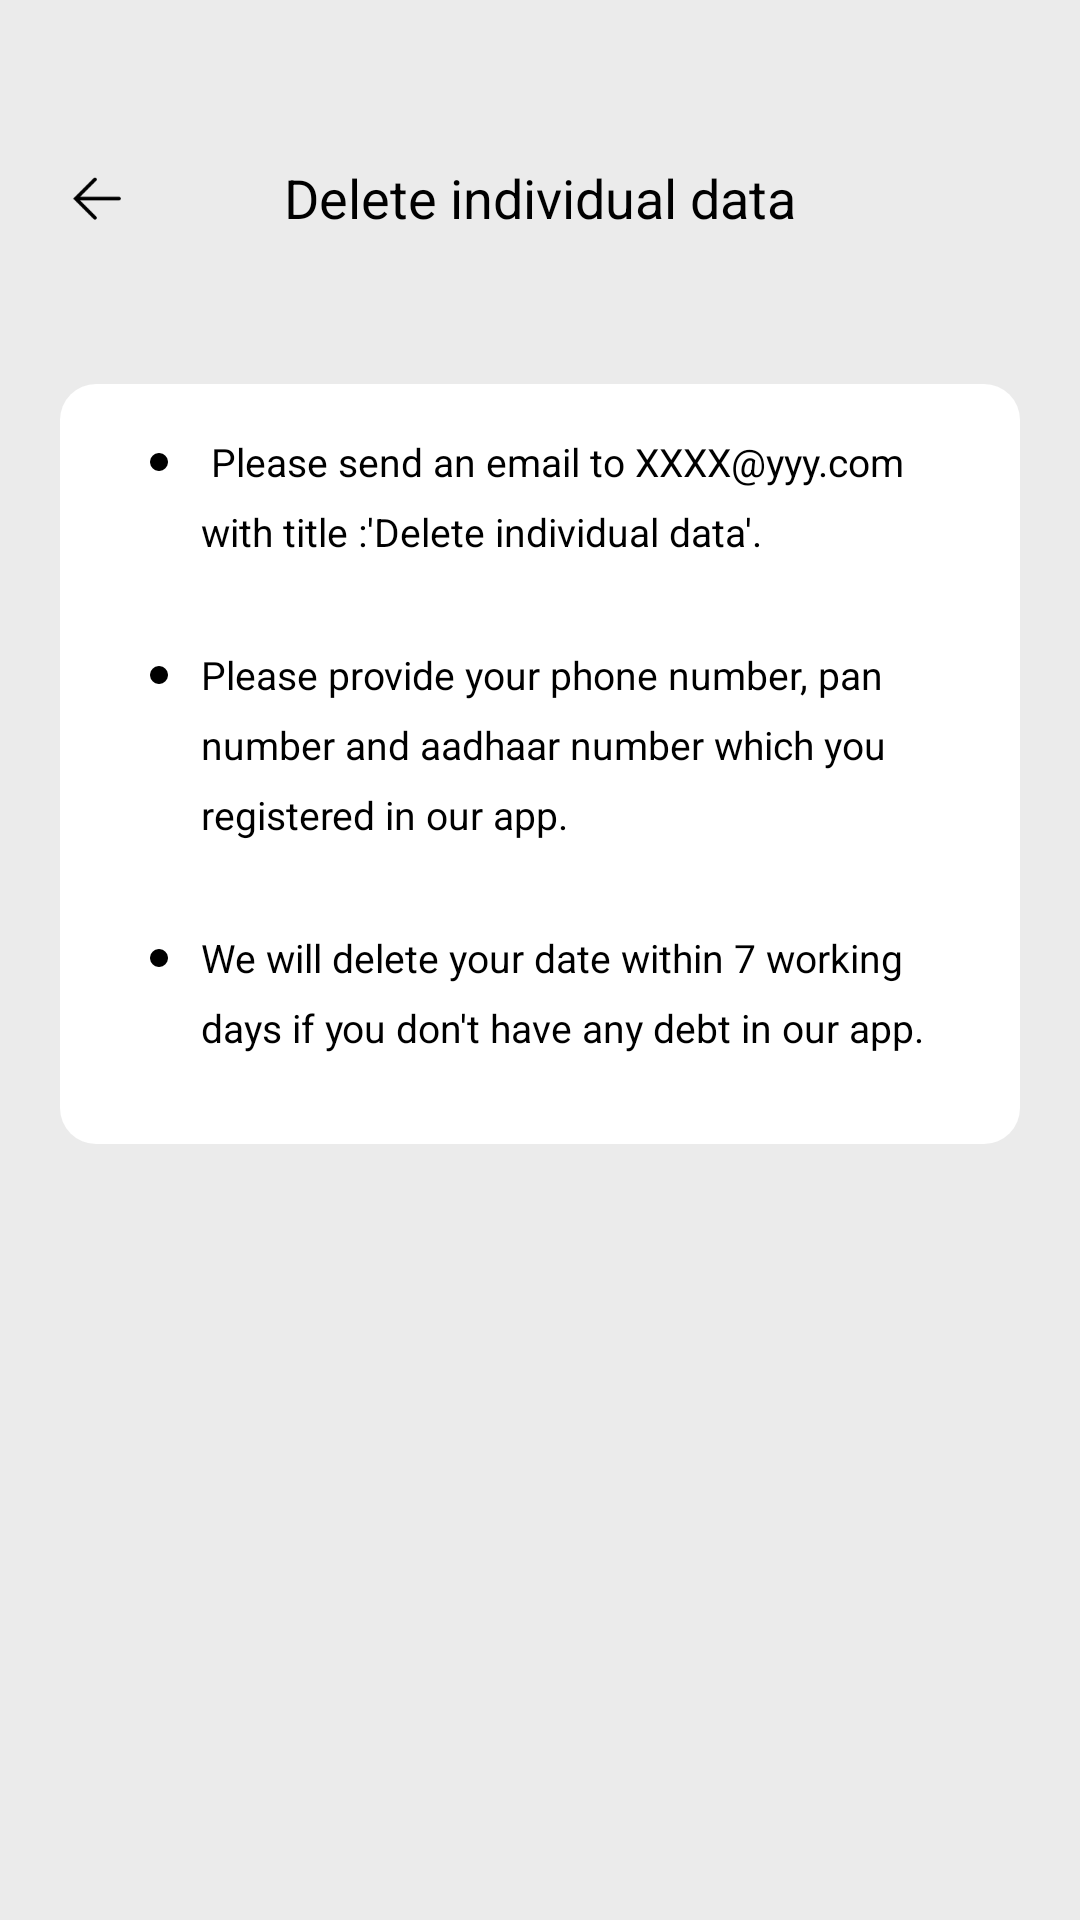

Screen size 1080 x 1920. Icon name, then its center in pixels as point (x, y):
back: point (97, 198)
